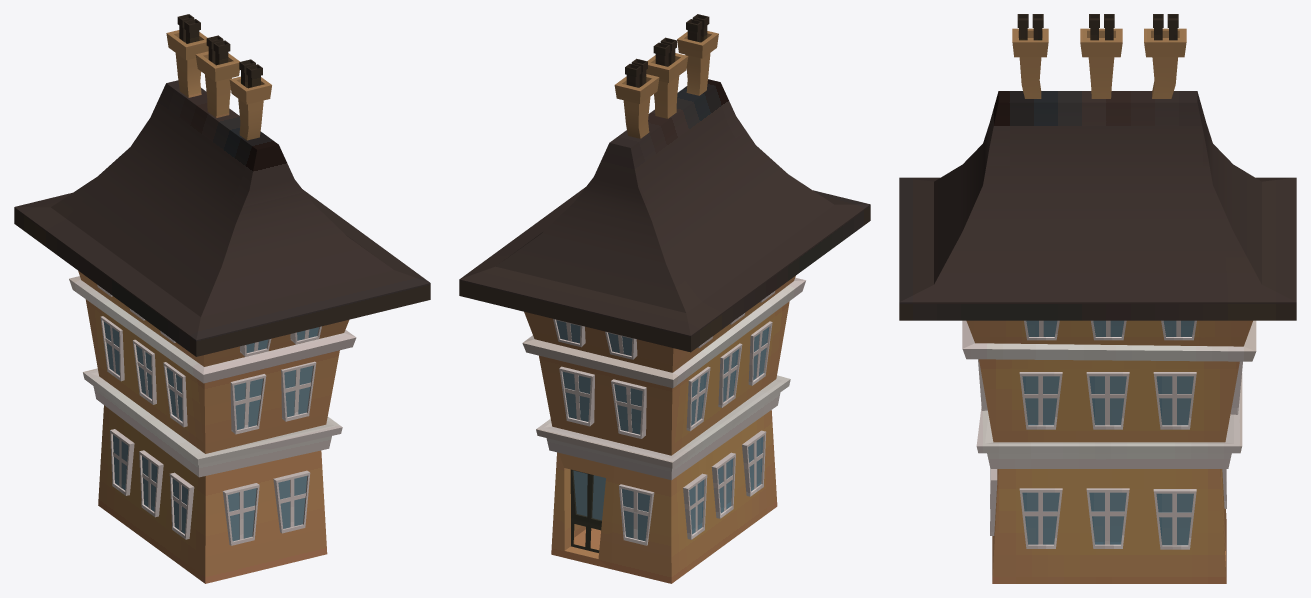
The model's file is House2.fbx.
The picture shows the model from 3 angles, left to right: view 1: azimuth 30°, elevation 25°; view 2: azimuth 150°, elevation 25°; view 3: azimuth 270°, elevation 25°; orthographic projection. The views are drawn at different scales.
Visible parts, largest first — view 1: polySurface115; view 2: polySurface115; view 3: polySurface115.
Boxes of the visible parts, <box> form: polySurface115: <box>14,14,430,583</box>; polySurface115: <box>459,14,870,583</box>; polySurface115: <box>899,14,1296,583</box>.
Size of the model in its own units: 19.38 by 38.74 by 26.06.
